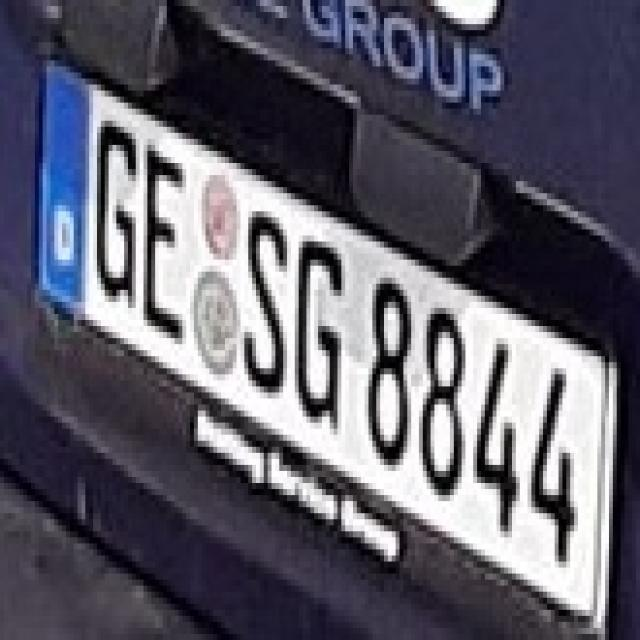4: (516, 344, 582, 556), (458, 314, 520, 532)
8: (349, 260, 415, 466), (404, 290, 469, 496)
E: (128, 126, 190, 338)
G: (279, 230, 349, 428), (82, 109, 140, 308)
S: (225, 194, 291, 392)
